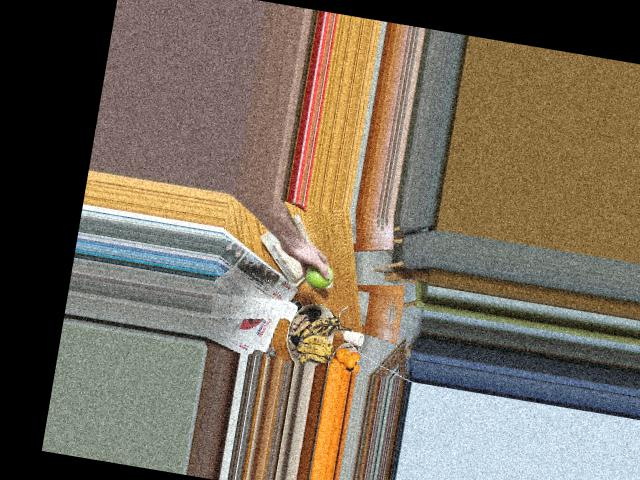apple: (301, 257, 337, 292)
